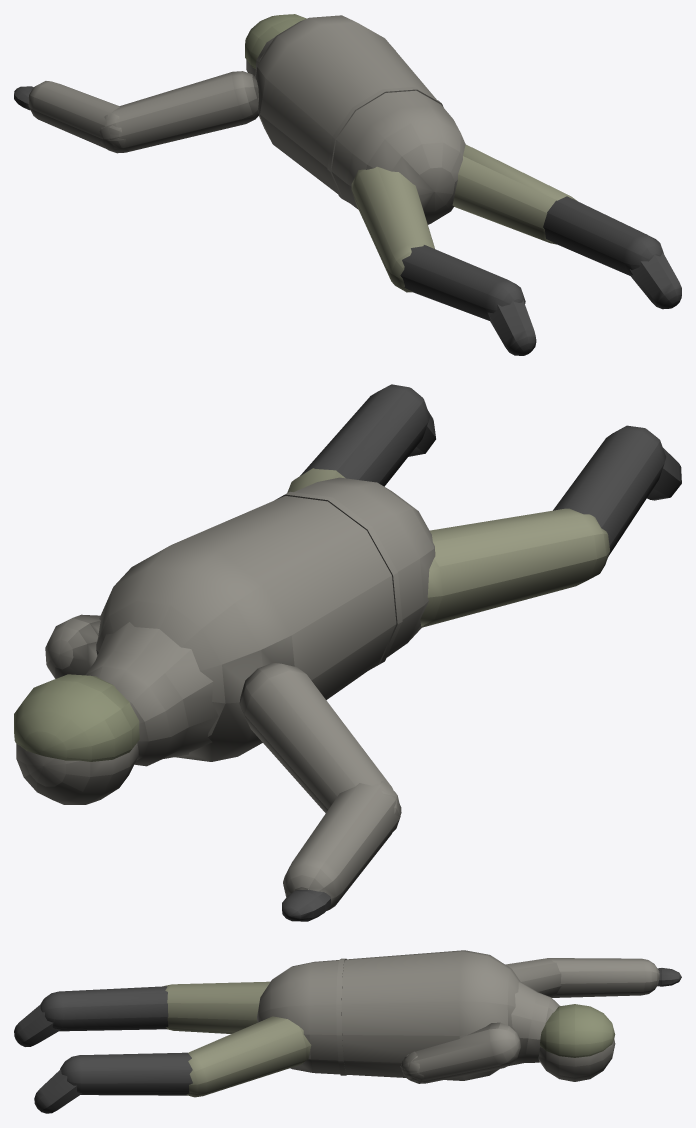
Rendered from remains_lying.glb.
The picture shows the model from 3 angles, top to bottom: view 1: azimuth 30°, elevation 25°; view 2: azimuth 150°, elevation 25°; view 3: azimuth 270°, elevation 25°; orthographic projection. The views are drawn at different scales.
Visible parts, largest first — view 1: static; view 2: static; view 3: static.
Part boxes in pixels (x1,y1,x2,y2): static: (14, 14, 681, 355); static: (14, 384, 681, 921); static: (14, 950, 681, 1113).
Bounding box in the file's own units: 0.9223 × 0.3964 × 1.99.
